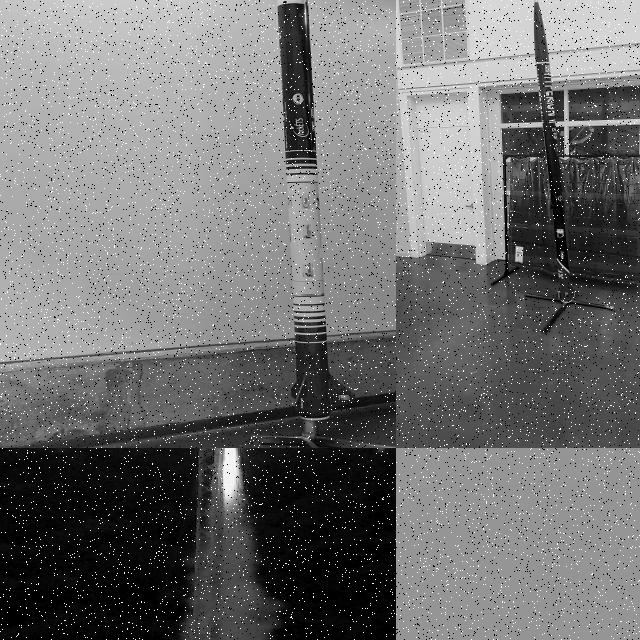Rocket: (277, 0, 355, 420), (534, 0, 579, 302)
